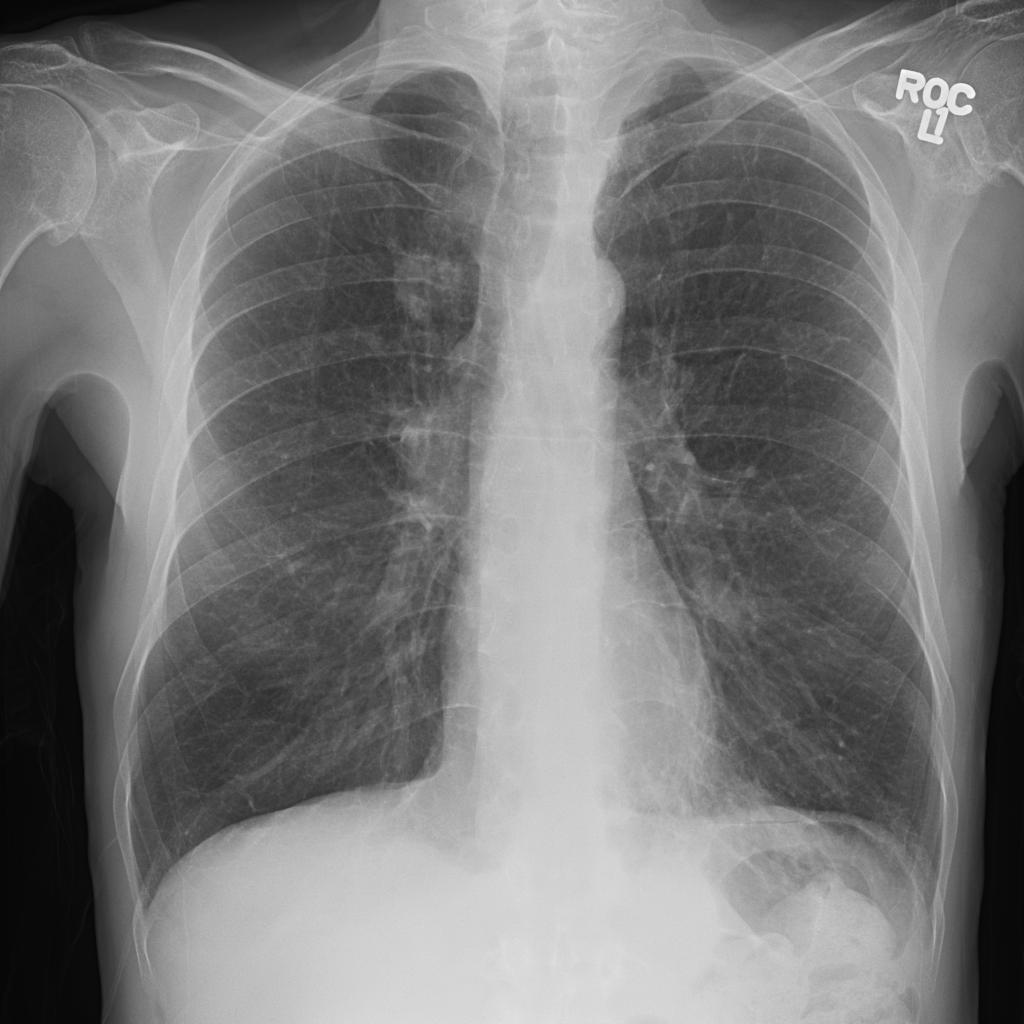Nodule: (200, 123, 234, 164)
